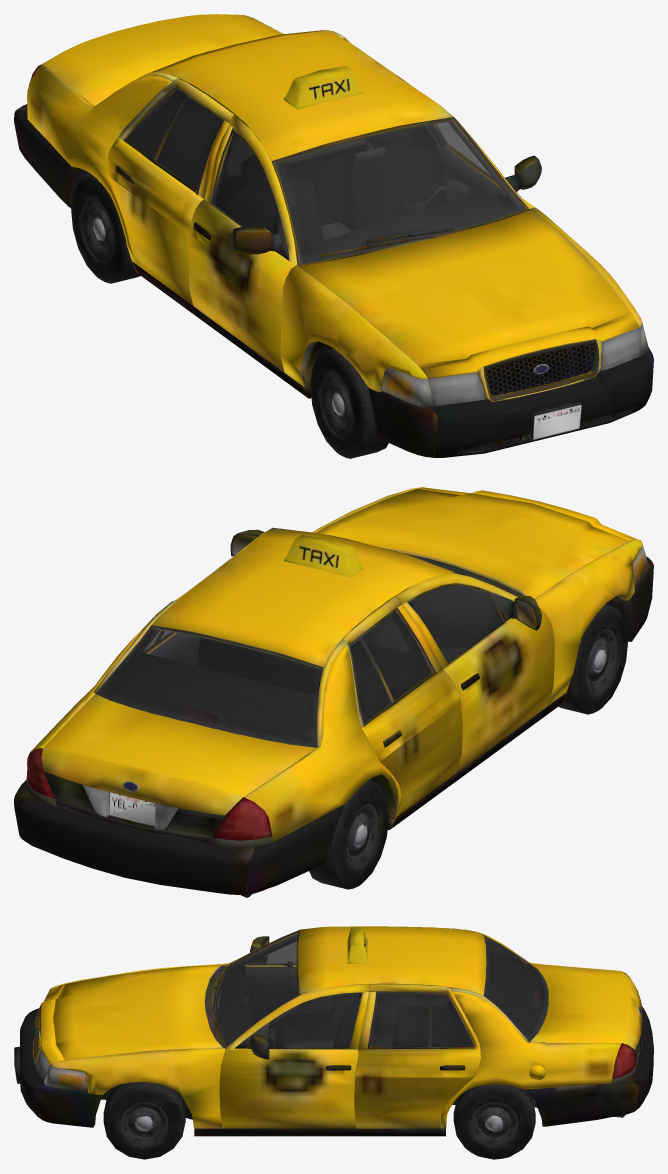
The model's file is crown.glb.
3 views of the same model, one above another, from view 1: azimuth 30°, elevation 25°; view 2: azimuth 150°, elevation 25°; view 3: azimuth 270°, elevation 25° (orthographic). The views are drawn at different scales.
Parts seen in each view (by area): view 1: crown_vic_taxi, taxi_sign; view 2: crown_vic_taxi, taxi_sign; view 3: crown_vic_taxi, taxi_sign.
Boxes of the visible parts, x1,y1,x2,y2 form: crown_vic_taxi: (14,14,653,458); taxi_sign: (284,66,363,109); crown_vic_taxi: (14,487,653,897); taxi_sign: (284,535,363,577); crown_vic_taxi: (14,926,653,1159); taxi_sign: (347,927,367,963).
Bounding box in the file's own units: 2.64 × 2 × 6.52.
Materials: 8 (8 with a texture image).
